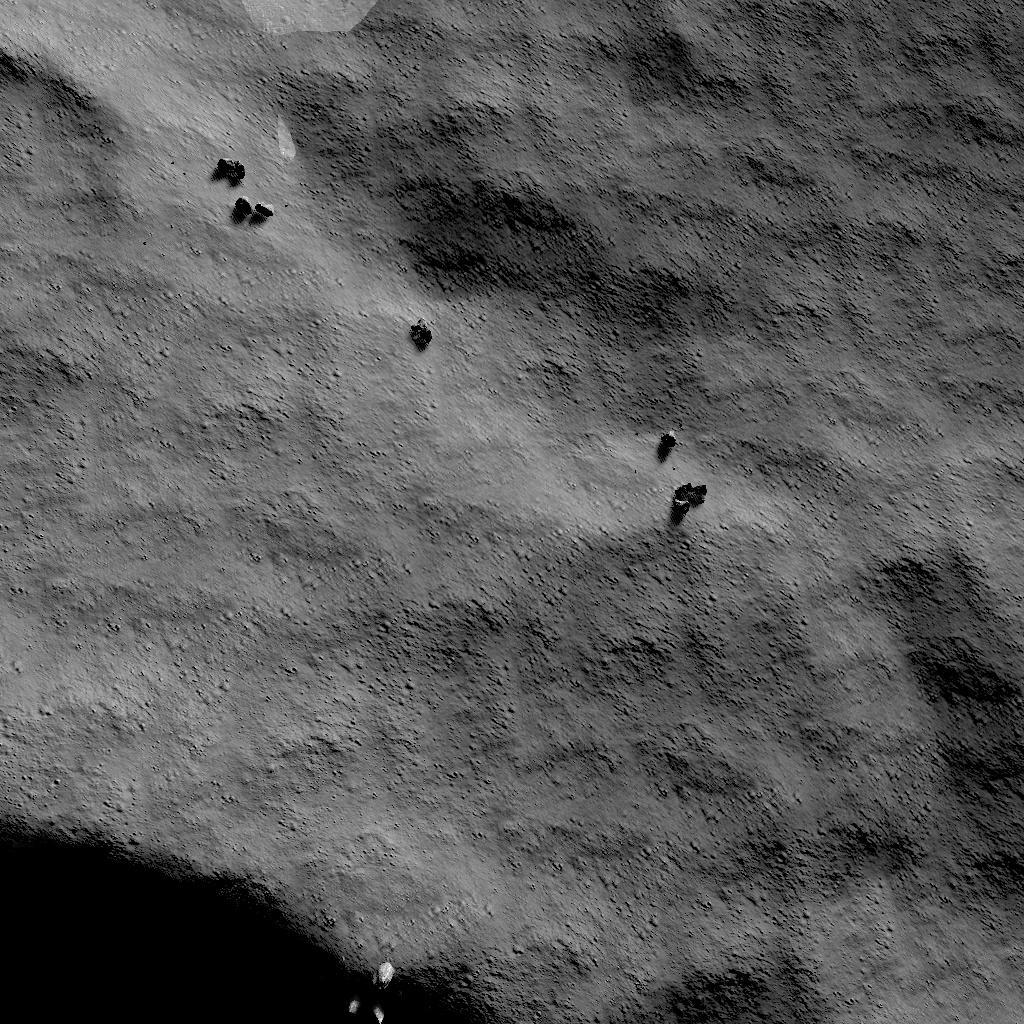Boulders: (211, 0, 378, 65)
Crater: (0, 772, 536, 1024), (0, 54, 133, 394)
Plan surface: (436, 0, 1020, 412), (557, 540, 1024, 1024), (3, 406, 415, 752)
